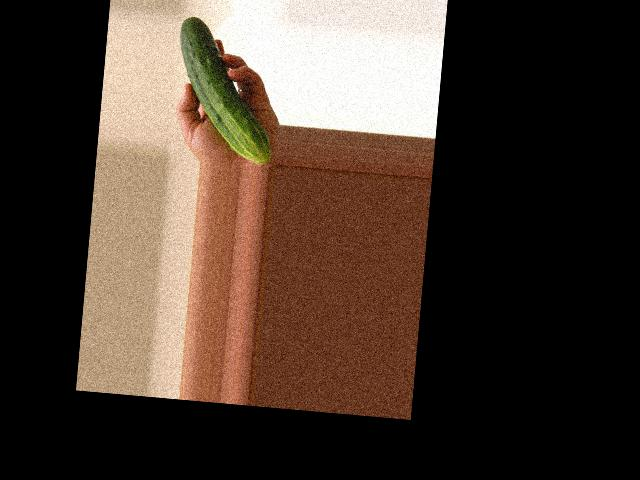cucumber: (170, 15, 282, 164)
